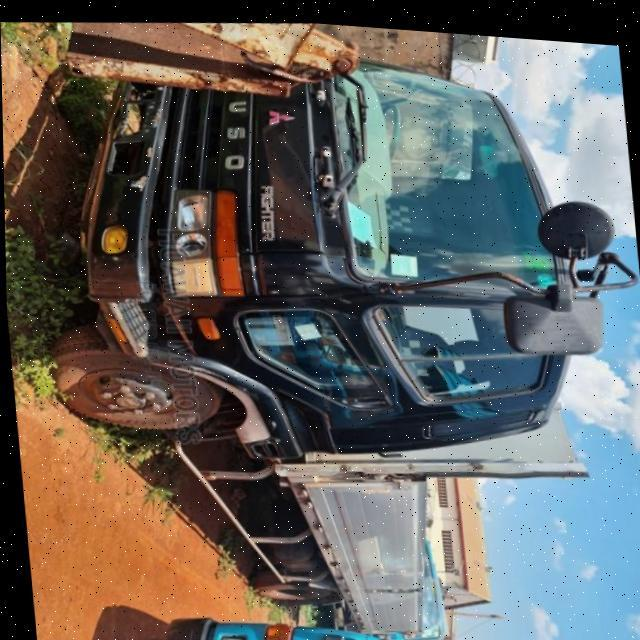truck: (20, 2, 640, 640)
